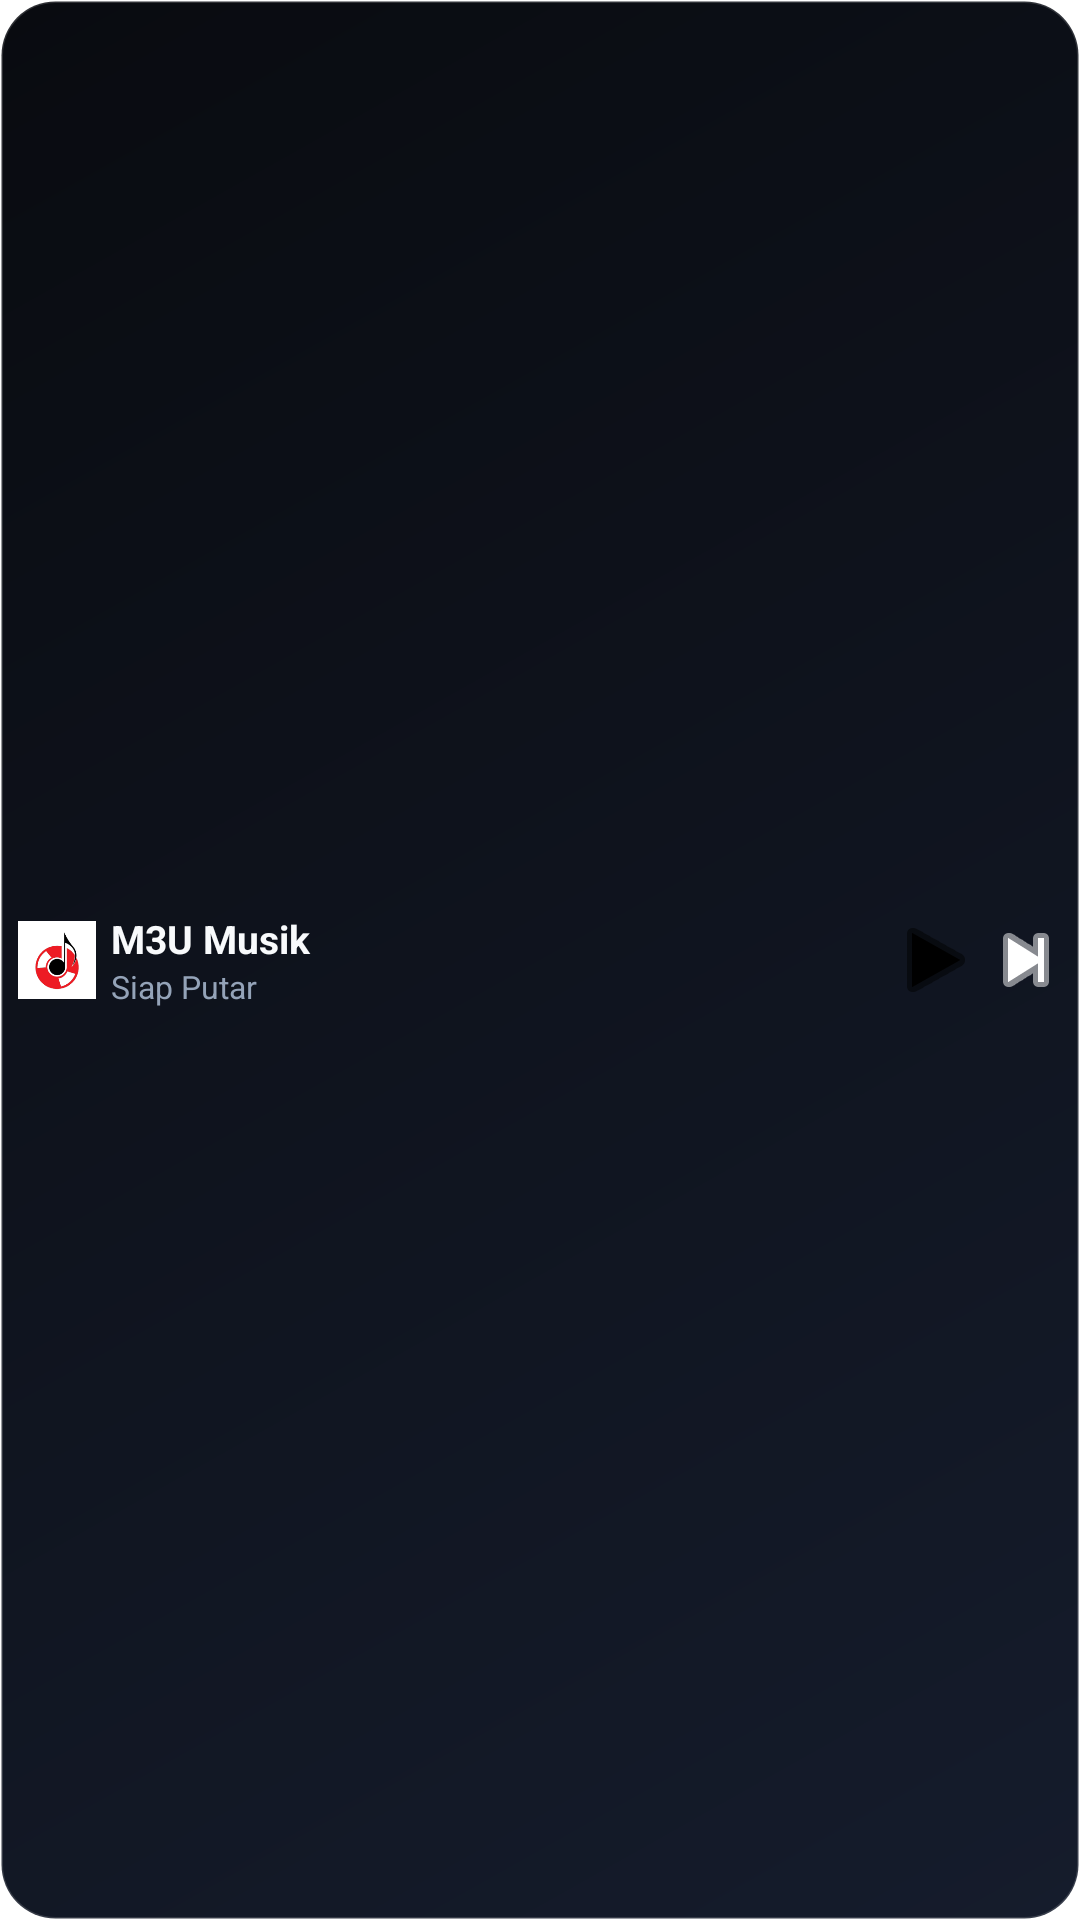

Screen size 1080 x 1920. Icon name, then its box in pixels as region(x1, y1, x2, y2):
Next: region(1003, 933, 1049, 987)
Play/Pause: region(912, 933, 960, 987)
